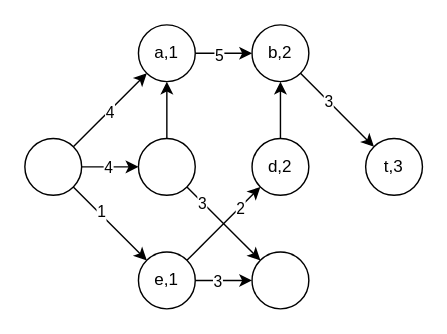
Some shapes in this 447 by 334 pixel diagram are drawn without their labels. Each missing label, with the box of its shape:
c,1: (137, 137, 195, 195)
f,2: (251, 251, 309, 309)
s,0: (23, 137, 82, 195)
